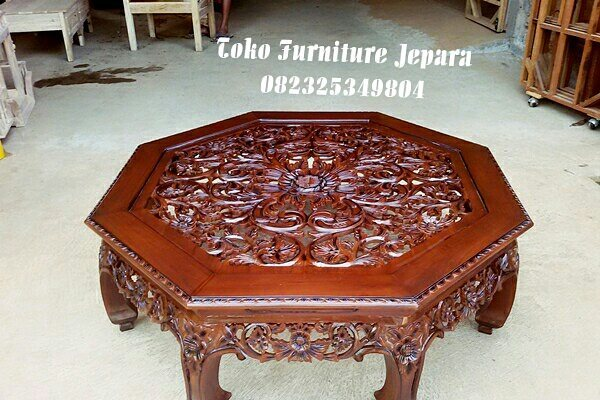Carving Table: (81, 96, 556, 400)
